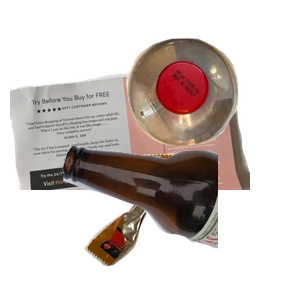glass: (60, 142, 300, 300)
paper: (10, 61, 250, 241)
plastic: (124, 36, 300, 175)
trash: (82, 151, 260, 300)
